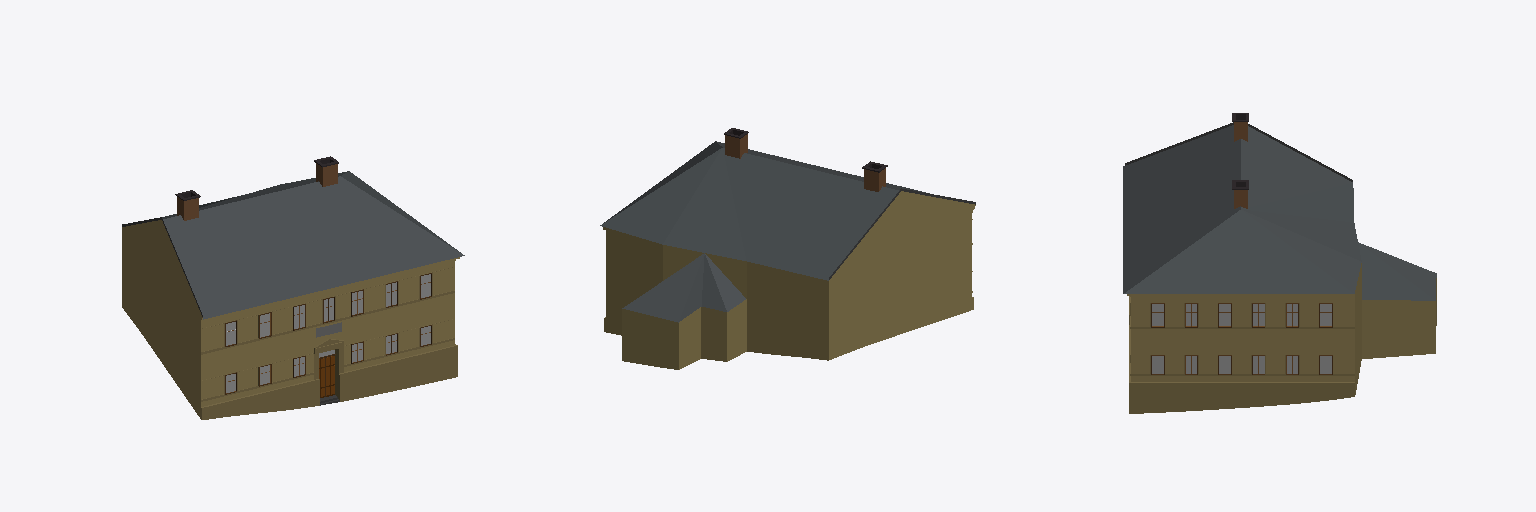
The picture shows the model from 3 angles: view 1: azimuth 30°, elevation 25°; view 2: azimuth 150°, elevation 25°; view 3: azimuth 270°, elevation 25°; orthographic projection.
Parts seen in each view (by area): view 1: Model_Model.009; view 2: Model_Model.009; view 3: Model_Model.009.
Boxes of the visible parts, <box> form: Model_Model.009: <box>122,156,464,419</box>; Model_Model.009: <box>600,128,975,369</box>; Model_Model.009: <box>1123,113,1436,413</box>.
Size of the model in its own units: 2.08 by 1.47 by 2.16.